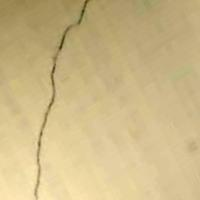crack: (24, 0, 106, 199)
